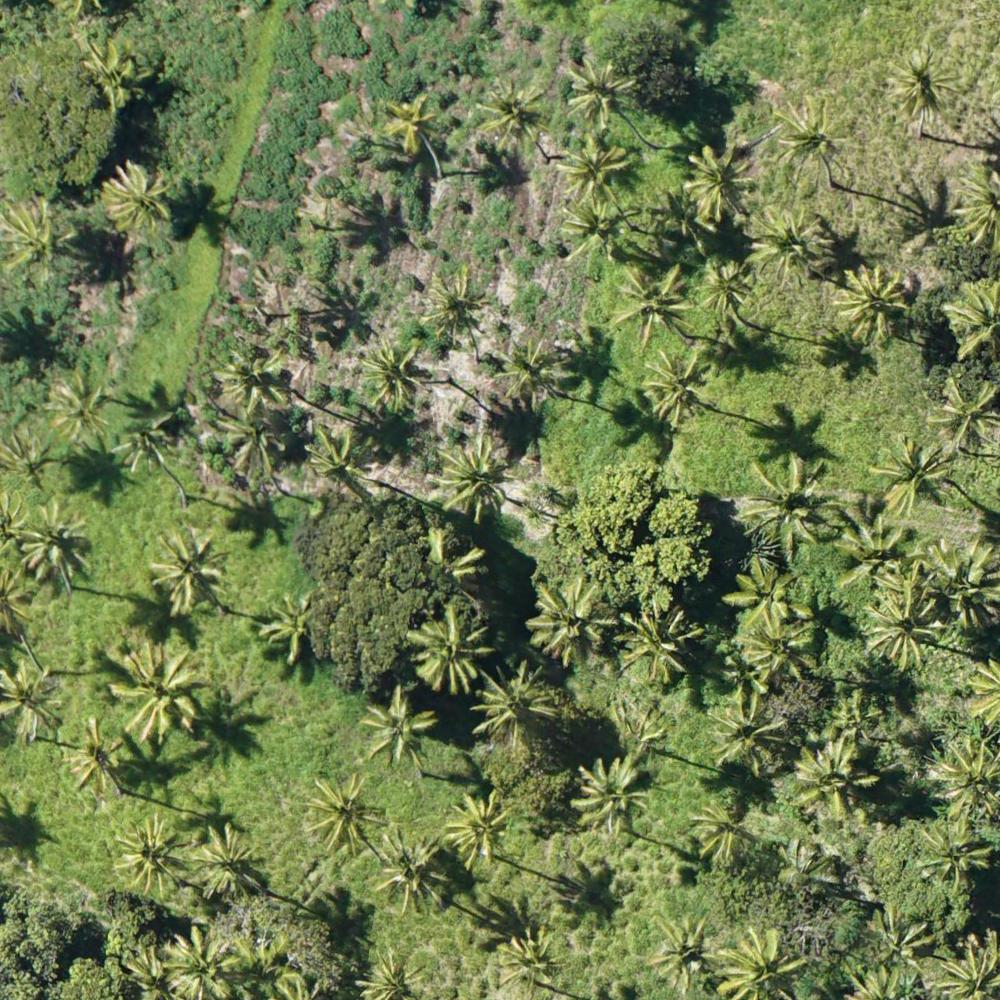Palm: (108, 648, 203, 734), (473, 664, 564, 752), (145, 525, 238, 611), (774, 91, 858, 185), (746, 458, 831, 549), (524, 577, 616, 659), (411, 606, 493, 694), (436, 438, 522, 518), (865, 582, 943, 669), (3, 195, 79, 284), (306, 773, 388, 854), (929, 538, 1000, 631), (620, 601, 700, 683), (374, 830, 456, 910), (732, 557, 819, 632), (798, 738, 876, 821), (704, 690, 785, 769), (615, 259, 693, 341), (114, 814, 189, 899), (364, 685, 440, 767), (718, 927, 808, 996), (165, 923, 246, 999), (571, 756, 648, 832), (926, 739, 1000, 818), (870, 440, 958, 506), (884, 50, 963, 123), (834, 269, 910, 344), (447, 790, 520, 868), (750, 208, 825, 283), (19, 504, 92, 580), (558, 51, 632, 125), (215, 409, 290, 481), (215, 348, 299, 412), (99, 158, 170, 233), (192, 823, 265, 895), (475, 75, 550, 144), (492, 926, 565, 996), (59, 719, 126, 794), (419, 273, 490, 343), (640, 344, 709, 416), (648, 915, 716, 988), (498, 336, 568, 406), (932, 369, 1000, 441), (833, 522, 906, 589), (685, 148, 756, 216), (923, 818, 992, 886), (741, 627, 821, 684), (559, 134, 630, 198), (776, 838, 846, 902), (263, 589, 326, 660), (1, 663, 59, 738), (48, 377, 113, 443), (362, 347, 428, 412), (306, 422, 369, 489), (684, 799, 748, 862), (558, 199, 624, 260), (698, 258, 757, 322), (87, 42, 148, 102), (380, 92, 441, 151), (1, 429, 59, 490), (832, 693, 882, 736)
